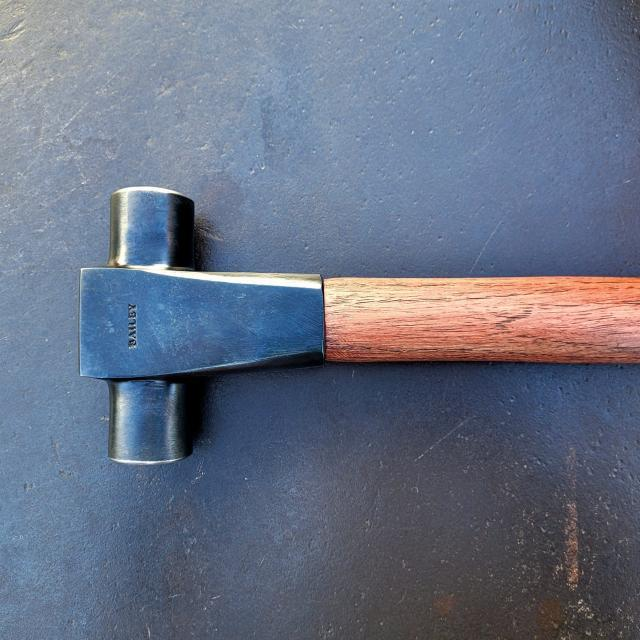hammer: (71, 179, 640, 477)
